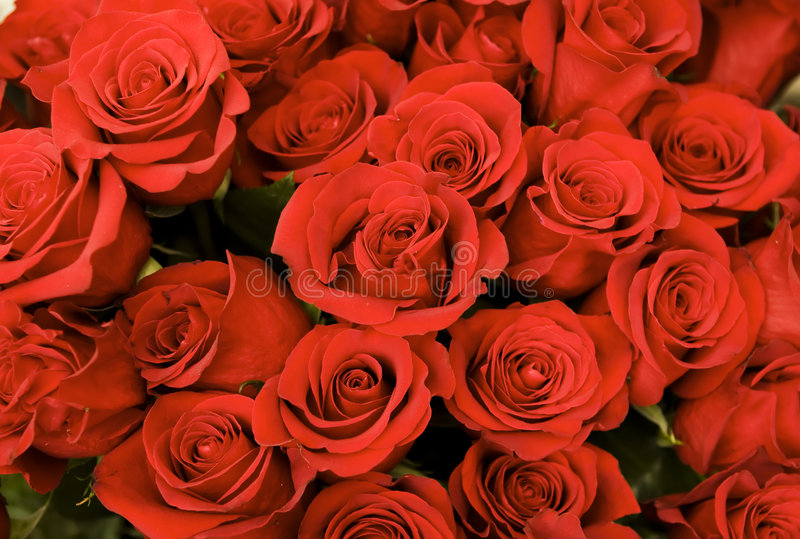RedRose: (310, 170, 498, 327), (74, 37, 251, 190), (452, 306, 630, 437), (522, 0, 705, 126), (144, 381, 302, 526), (0, 150, 155, 297), (131, 259, 298, 386), (617, 228, 741, 387), (391, 61, 522, 208), (0, 321, 136, 454), (645, 89, 786, 217), (294, 345, 414, 479), (270, 44, 396, 162), (459, 440, 615, 535), (519, 153, 626, 283), (302, 478, 471, 527), (205, 8, 327, 75), (690, 462, 800, 534)
